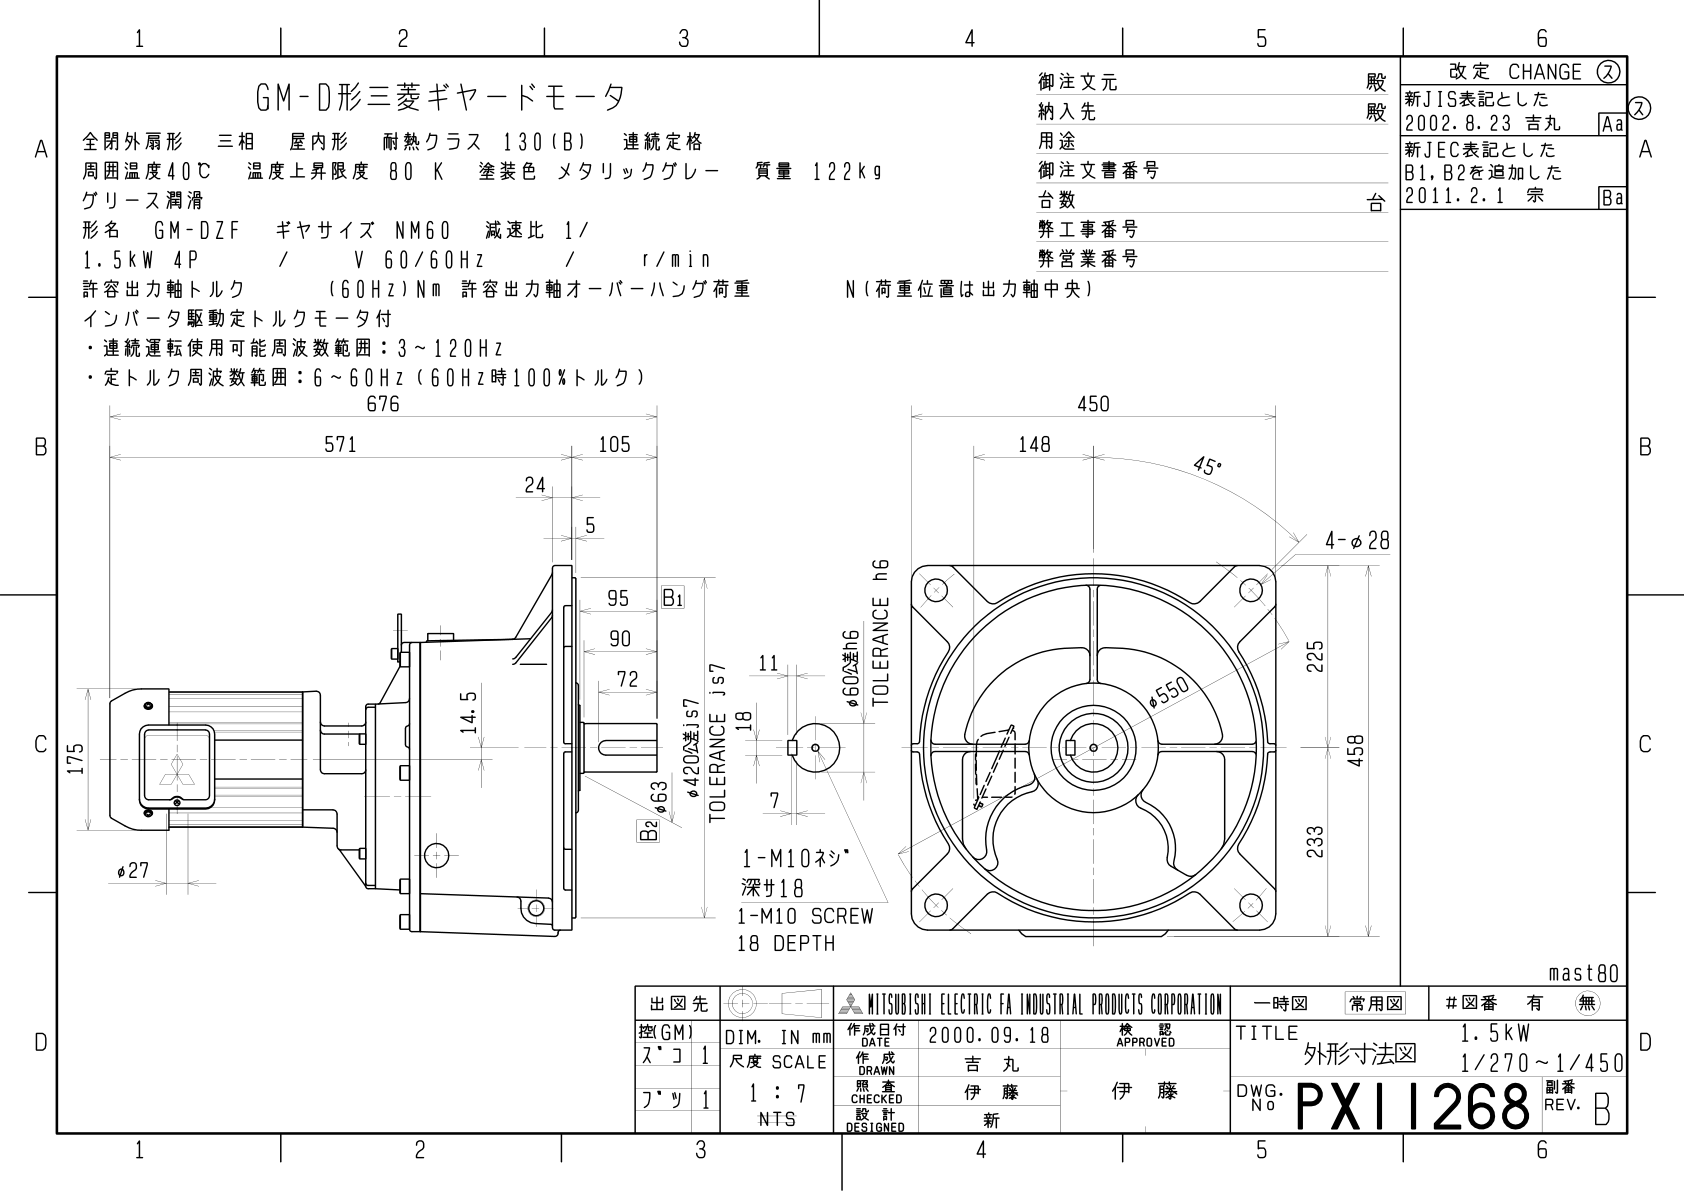GM_D_インバータ屋内_三相_フランジ: (58, 391, 1399, 978)
